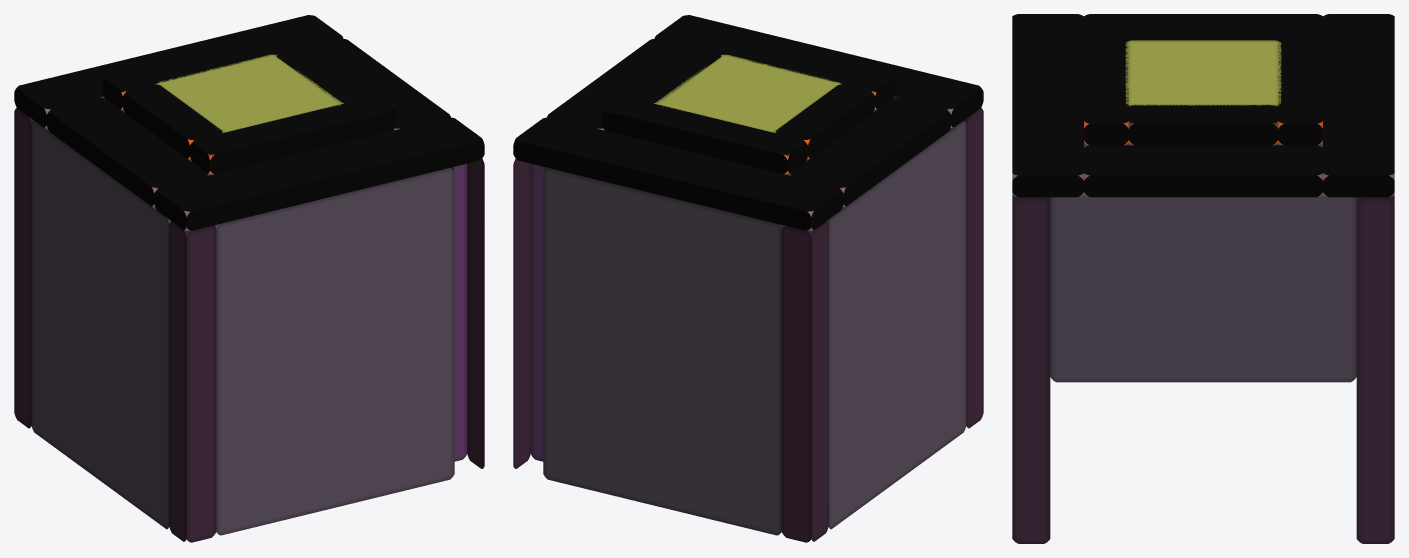
The picture shows the model from 3 angles, left to right: view 1: azimuth 30°, elevation 25°; view 2: azimuth 150°, elevation 25°; view 3: azimuth 270°, elevation 25°; orthographic projection. The views are drawn at different scales.
Visible parts, largest first — view 1: S, Roof, W, N; view 2: N, Roof, W, S; view 3: Roof, W, N, S.
Part boxes in pixels (x1=…): S: x1=169, y1=158, x2=484, y2=541; Roof: x1=14, y1=15, x2=484, y2=230; W: x1=16, y1=107, x2=216, y2=542; N: x1=14, y1=108, x2=223, y2=428; N: x1=513, y1=158, x2=828, y2=541; Roof: x1=513, y1=15, x2=983, y2=230; W: x1=781, y1=107, x2=981, y2=542; S: x1=774, y1=108, x2=983, y2=428; Roof: x1=1012, y1=14, x2=1394, y2=197; W: x1=1050, y1=105, x2=1356, y2=382; N: x1=1356, y1=195, x2=1394, y2=543; S: x1=1012, y1=195, x2=1050, y2=543.
Bounding box in the file's own units: 2 × 2.25 × 2.
Materials: 2 (2 with a texture image).
